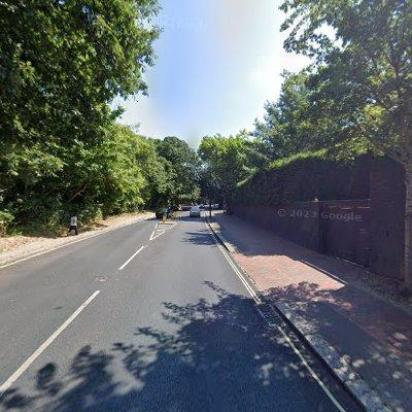moving-car: (156, 202, 168, 218), (190, 206, 200, 217)
